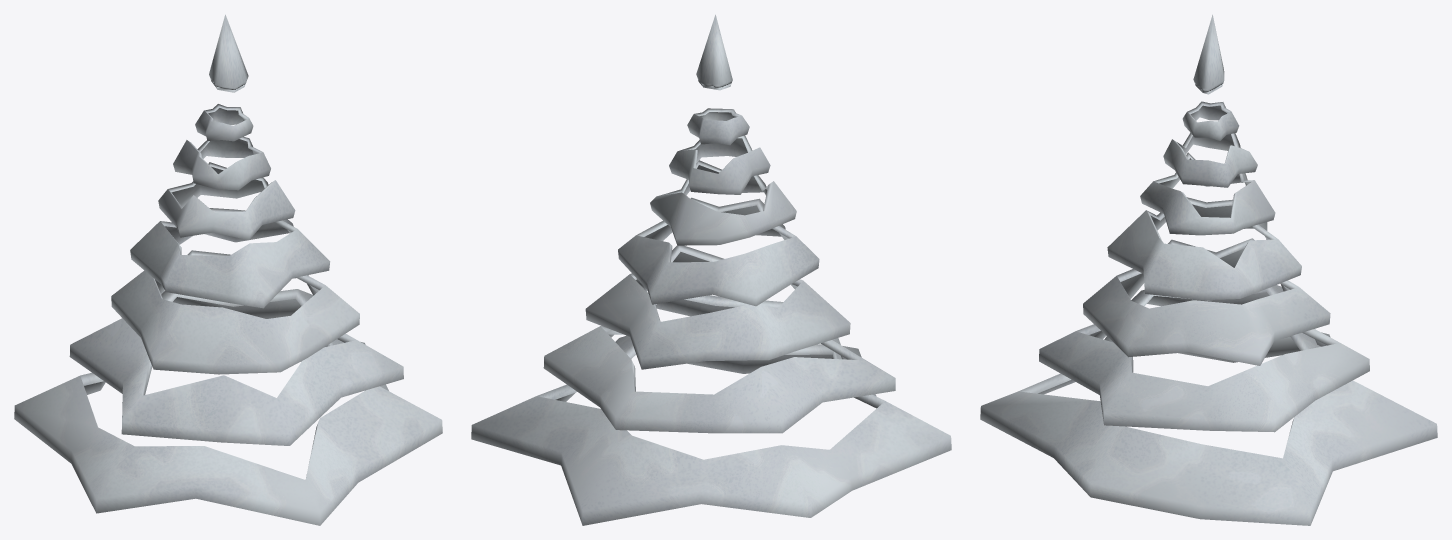
File: PineTree_5_Snow.fbx
The picture shows the model from 3 angles, left to right: view 1: azimuth 30°, elevation 25°; view 2: azimuth 150°, elevation 25°; view 3: azimuth 270°, elevation 25°; orthographic projection. The views are drawn at different scales.
Parts seen in each view (by area): view 1: PineTree_5_Snow_LOD0; view 2: PineTree_5_Snow_LOD0; view 3: PineTree_5_Snow_LOD0.
Part boxes in pixels (x1=…): PineTree_5_Snow_LOD0: x1=14, y1=14, x2=442, y2=525; PineTree_5_Snow_LOD0: x1=471, y1=14, x2=951, y2=525; PineTree_5_Snow_LOD0: x1=980, y1=14, x2=1437, y2=525.
Size of what is drawn, in the model's own units: 997 by 1115 by 1082.
